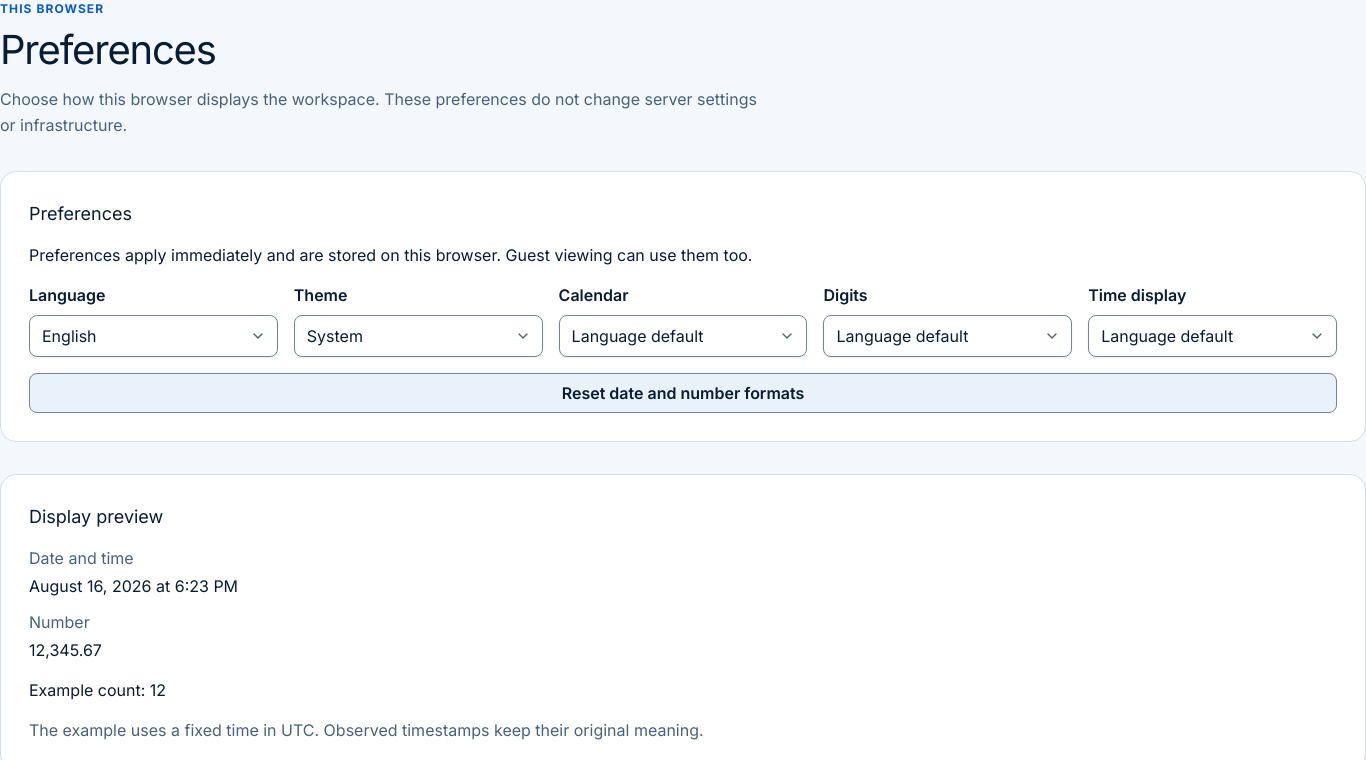
Scenario: local preferences › reports an actual storage failure while keeping the selected display usable
Select "Persian digits" in the dropdown labelled "Digits": (948,336) [823,315,1072,357]
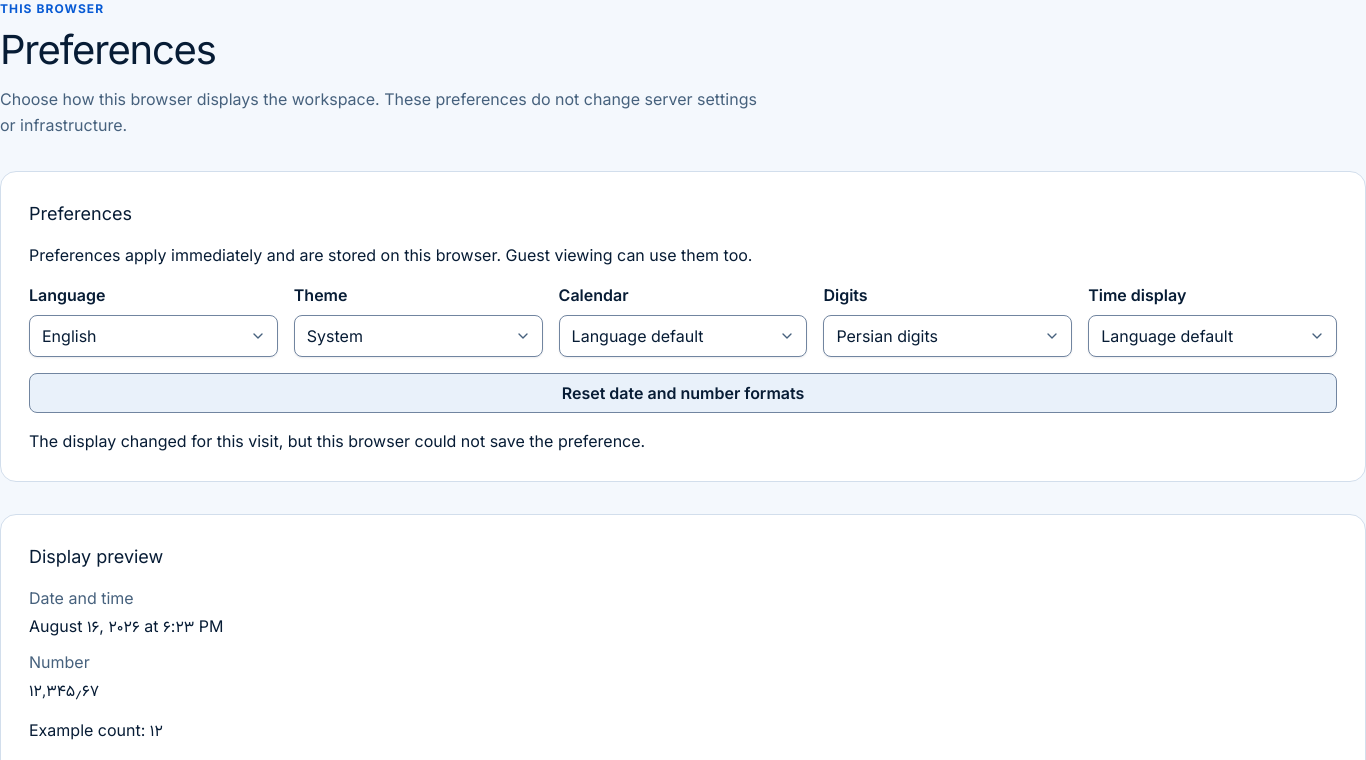
Expected: the text "this browser could not save the preference" is shown, [29,431,645,451]
